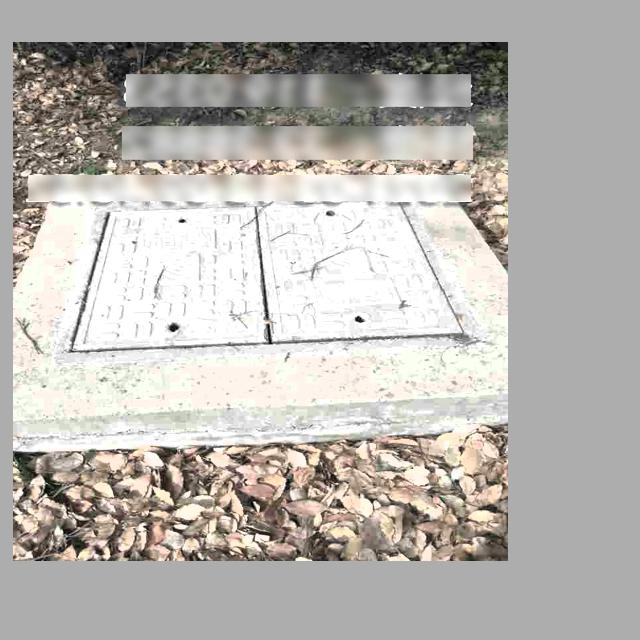good: (53, 194, 484, 361)
